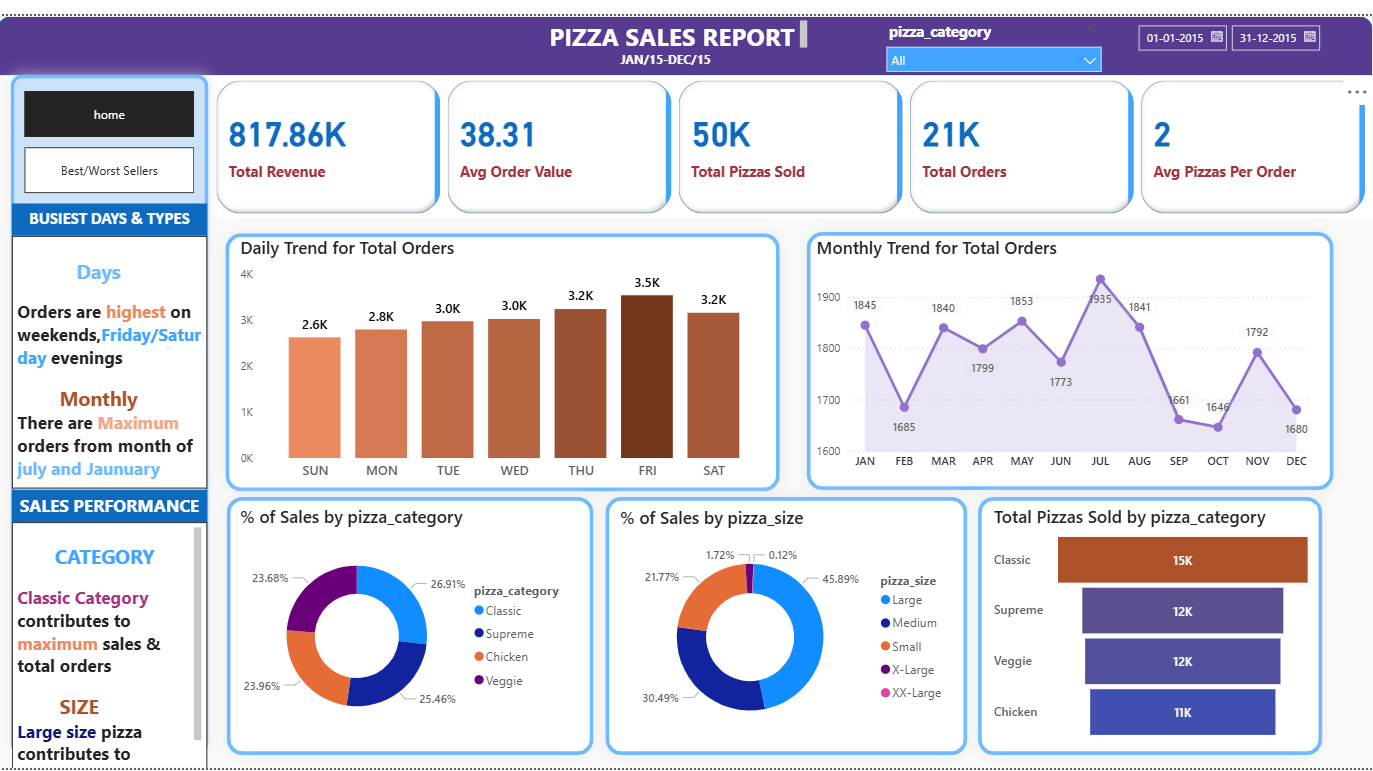

What the dashboard file says about the page in this screenshot:
{"tool":"powerbi","page":{"name":"home","canvas":[1500,820],"ordinal":0},"visuals":[{"type":"cardVisual","fields":{"Data":["pizza_sales.Total Revenue","pizza_sales.Avg Order Value","pizza_sales.Total Pizzas Sold","pizza_sales.Total Orders","pizza_sales.Avg Pizzas Per Order"]},"box":[234.4,65.4,1265.9,155.3],"z":0},{"type":"shape","box":[0,0,1500,65],"z":1000},{"type":"textbox","box":[596.8,0,291.6,42.2],"z":2000},{"type":"textbox","box":[674.5,32.7,118.6,32.7],"z":3000},{"type":"shape","box":[234.4,222.1,633.6,310.7],"z":4000},{"type":"columnChart","title":"Daily Trend for Total Orders","fields":{"Category":["pizza_sales.Order Day"],"Y":["pizza_sales.Total Orders"]},"box":[260.3,239.8,584.6,275.3],"z":5000},{"type":"shape","box":[868,220.7,603.7,310.7],"z":6000},{"type":"areaChart","title":"Monthly Trend for Total Orders","fields":{"Category":["pizza_sales.Order Month"],"Y":["pizza_sales.Total Orders"]},"box":[888.4,239.8,550.5,264.4],"z":7000},{"type":"shape","box":[235.7,509.6,429.2,310.7],"z":8000},{"type":"shape","box":[648.6,509.6,423.8,310.7],"z":9000},{"type":"shape","box":[1054.7,509.6,404.7,310.7],"z":10000},{"type":"donutChart","title":"% of Sales by pizza_category","fields":{"Y":["pizza_sales.Total Revenue"],"Category":["pizza_sales.pizza_category"]},"box":[260.3,532.8,373.4,261.6],"z":11000},{"type":"shape","box":[0,49.1,245.3,771.3],"z":12000},{"type":"donutChart","title":"% of Sales by pizza_size","fields":{"Y":["pizza_sales.Total Revenue"],"Category":["pizza_sales.pizza_size"]},"box":[674.5,534.2,373.4,261.6],"z":13000},{"type":"funnel","fields":{"Category":["pizza_sales.pizza_category"],"Y":["pizza_sales.Total Pizzas Sold"]},"box":[1081.9,532.8,357,261.6],"z":14000},{"type":"textbox","box":[16.4,204.4,212.6,35.4],"z":15000},{"type":"textbox","box":[16.4,239.8,212.6,275.3],"z":16000},{"type":"textbox","box":[16.4,516.4,212.6,35.4],"z":17000},{"type":"textbox","box":[16.4,551.9,212.6,268.4],"z":18000},{"type":"slicer","fields":{"Values":["pizza_sales.pizza_category"]},"box":[959.3,0,254.8,65.4],"z":19000},{"type":"slicer","fields":{"Values":["pizza_sales.order_date"]},"box":[1231.8,0,227.6,65.4],"z":20000},{"type":"pageNavigator","box":[29.6,82.4,185.4,50.2],"z":21000},{"type":"pageNavigator","box":[29.6,142.9,185.4,50.2],"z":22000}]}

Visuals, with their boxes in screenshot pixels (x1, y1, x2, y2), scaled from the page's 1500x820 canvas onto the 1373x771 screenshot:
cardVisual - pizza_sales.Total Revenue x pizza_sales.Avg Order Value: bbox=(215, 61, 1372, 208)
shape: bbox=(0, 0, 1372, 61)
textbox: bbox=(546, 0, 813, 40)
textbox: bbox=(617, 31, 726, 61)
shape: bbox=(215, 209, 795, 501)
"Daily Trend for Total Orders" columnChart: bbox=(238, 225, 773, 484)
shape: bbox=(795, 208, 1347, 500)
"Monthly Trend for Total Orders" areaChart: bbox=(813, 225, 1317, 474)
shape: bbox=(216, 479, 609, 770)
shape: bbox=(594, 479, 982, 770)
shape: bbox=(965, 479, 1336, 770)
"% of Sales by pizza_category" donutChart: bbox=(238, 501, 580, 747)
shape: bbox=(0, 46, 225, 770)
"% of Sales by pizza_size" donutChart: bbox=(617, 502, 959, 748)
funnel - pizza_sales.pizza_category x pizza_sales.Total Pizzas Sold: bbox=(990, 501, 1317, 747)
textbox: bbox=(15, 192, 210, 225)
textbox: bbox=(15, 225, 210, 484)
textbox: bbox=(15, 486, 210, 519)
textbox: bbox=(15, 519, 210, 770)
slicer - pizza_sales.pizza_category: bbox=(878, 0, 1111, 61)
slicer - pizza_sales.order_date: bbox=(1128, 0, 1336, 61)
pageNavigator: bbox=(27, 77, 197, 125)
pageNavigator: bbox=(27, 134, 197, 182)
